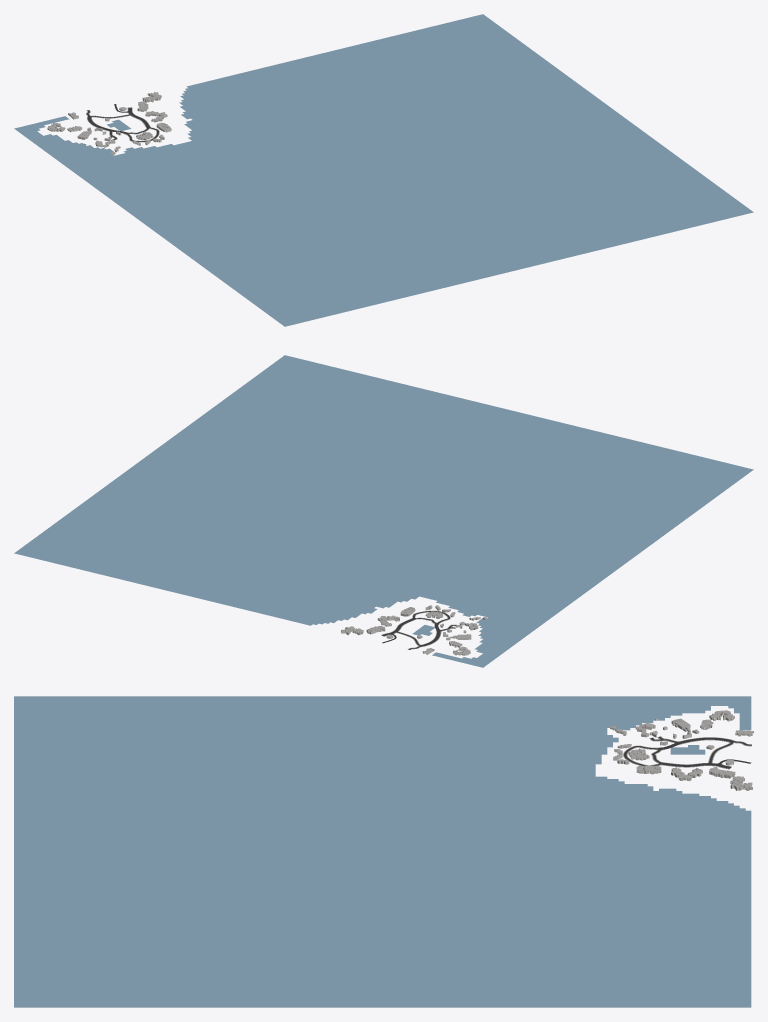
Rendered from chunk_9_6.glb.
3 views of the same model, one above another, from view 1: azimuth 30°, elevation 25°; view 2: azimuth 150°, elevation 25°; view 3: azimuth 270°, elevation 25° (orthographic). The views are drawn at different scales.
Parts seen in each view (by area): view 1: Water_9_6, Buildings_9_6; view 2: Water_9_6, Buildings_9_6; view 3: Water_9_6, Buildings_9_6, Roads_9_6, RoadSides_9_6.
Boxes of the visible parts, box(x1,y1,x2,y2) form: Water_9_6: box(14, 14, 753, 326); Buildings_9_6: box(47, 91, 171, 154); Water_9_6: box(14, 355, 753, 667); Buildings_9_6: box(341, 605, 487, 655); Water_9_6: box(14, 696, 751, 1007); Buildings_9_6: box(610, 710, 753, 790); Roads_9_6: box(624, 736, 751, 768); RoadSides_9_6: box(623, 736, 751, 769).
Size of the model in its own units: 2048 by 9.63 by 2056.
